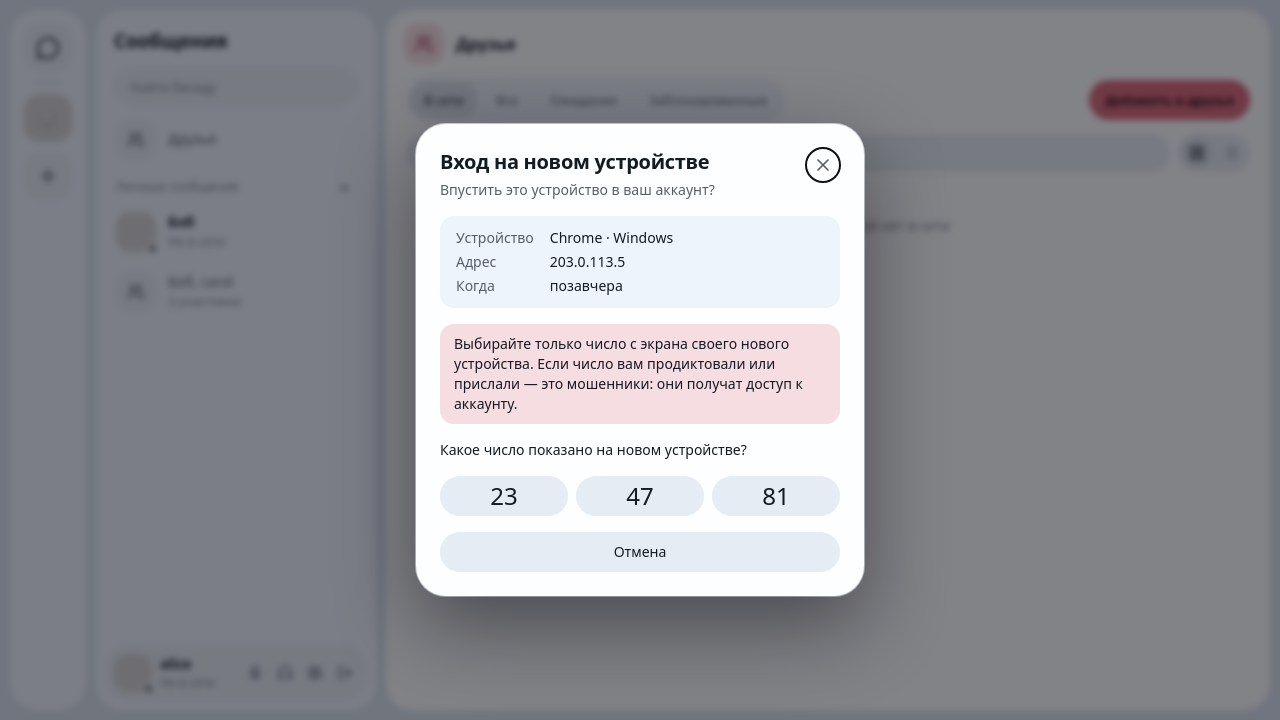
a sign-in by QR, seen from the other sessions › stays quiet on the device that approved it
Click the button "47" at [640, 496], box left=576, top=476, right=704, bottom=516
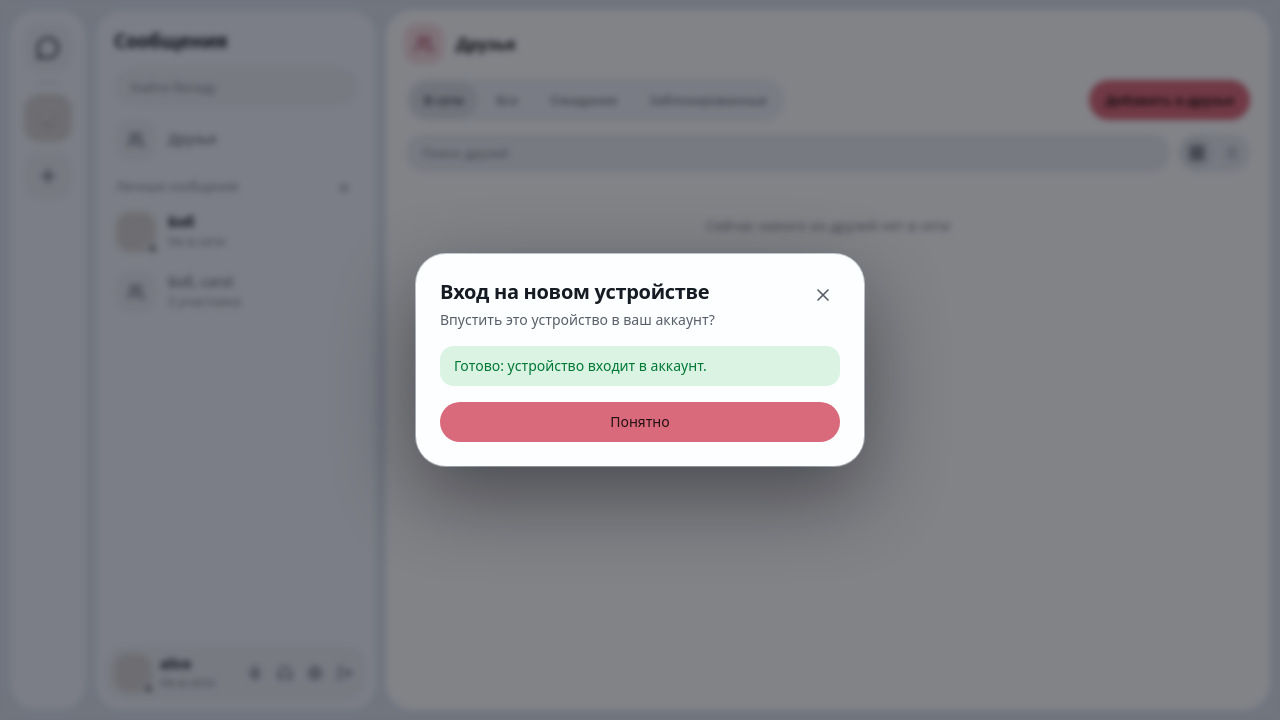
Expected: the text "Готово: устройство входит в аккаунт." is shown, left=440, top=346, right=840, bottom=386
